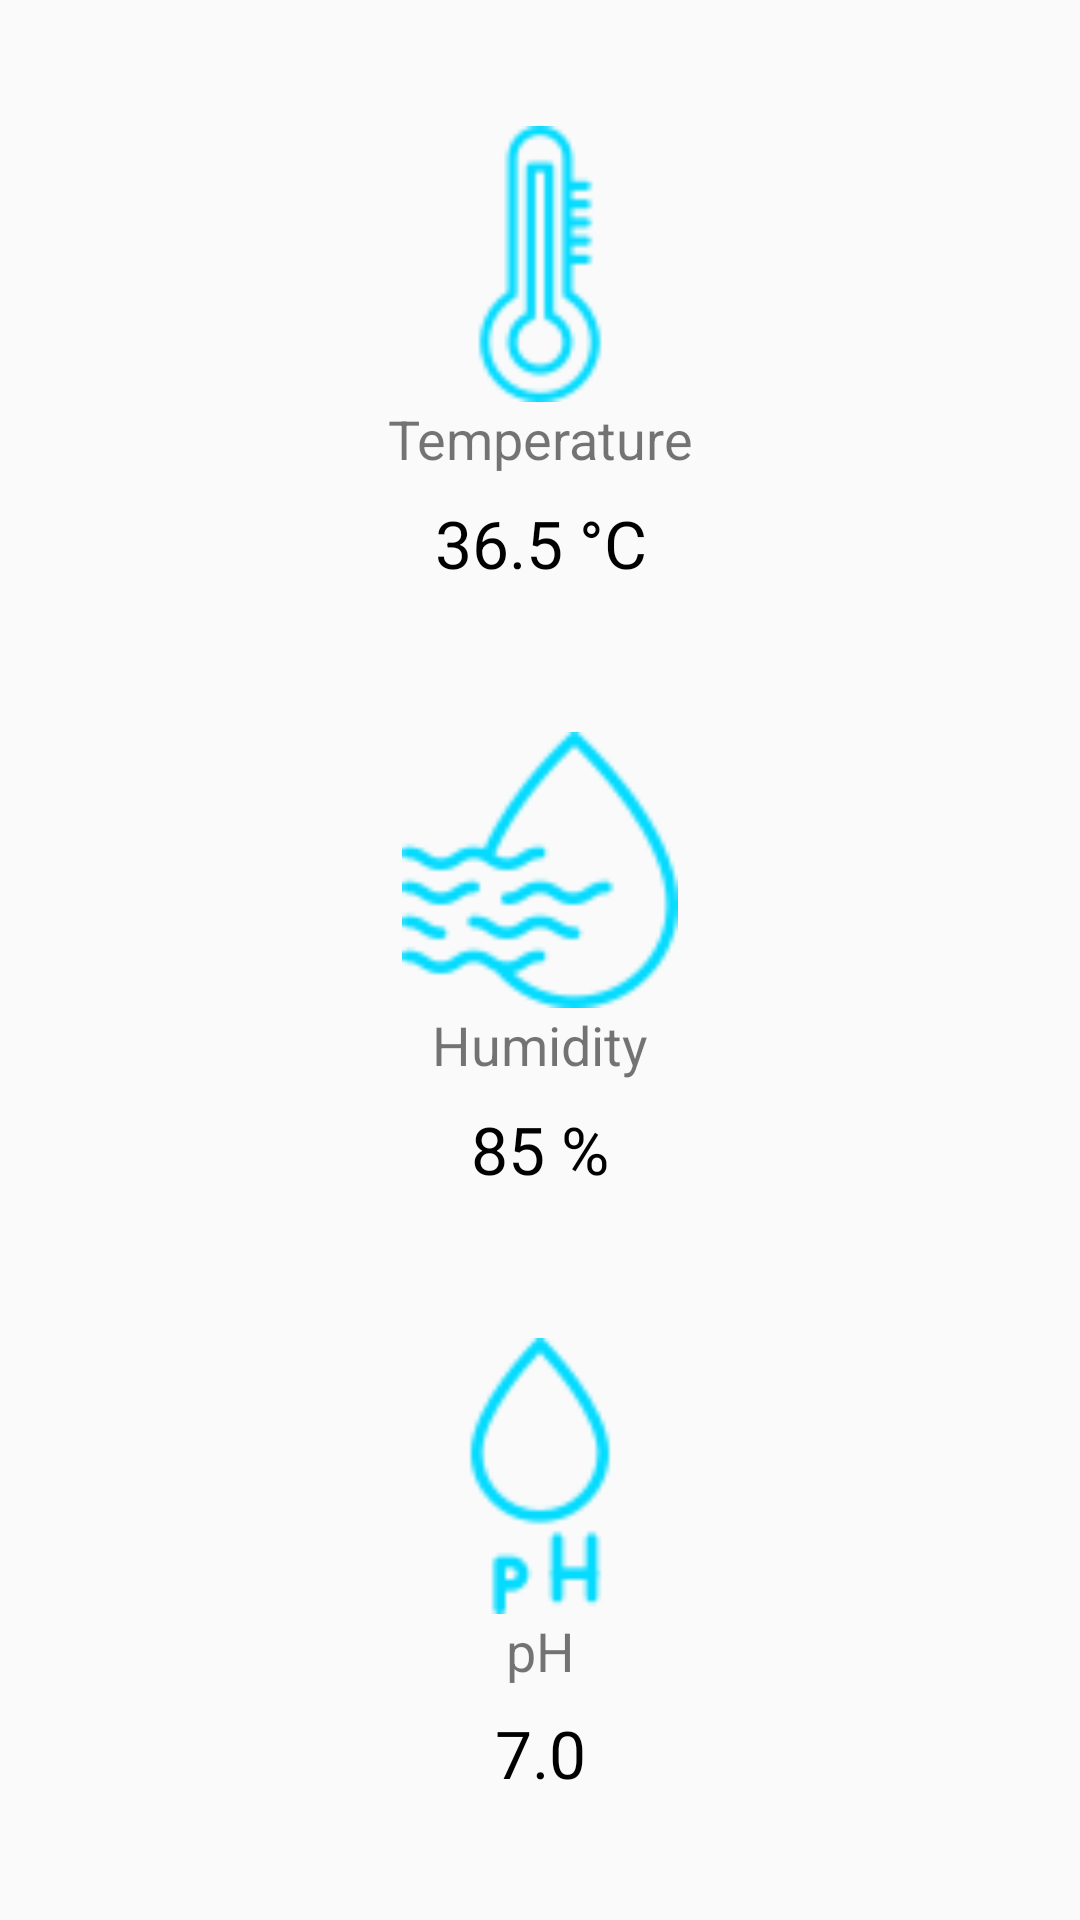

Screen size 1080px x 1920px. Icon name, then its center in pixels as (x,y):
drop: (540,1476)
thermometer: (540,264)
